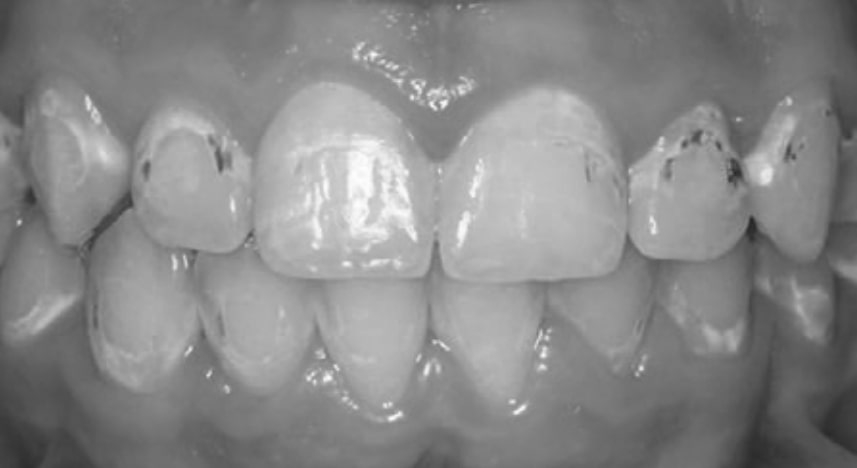karies: (83, 289, 177, 392), (657, 114, 745, 189), (130, 122, 235, 182), (54, 73, 121, 165), (771, 279, 846, 348), (4, 283, 74, 353), (686, 314, 760, 371), (778, 101, 840, 166), (597, 306, 657, 368), (198, 296, 246, 355)
